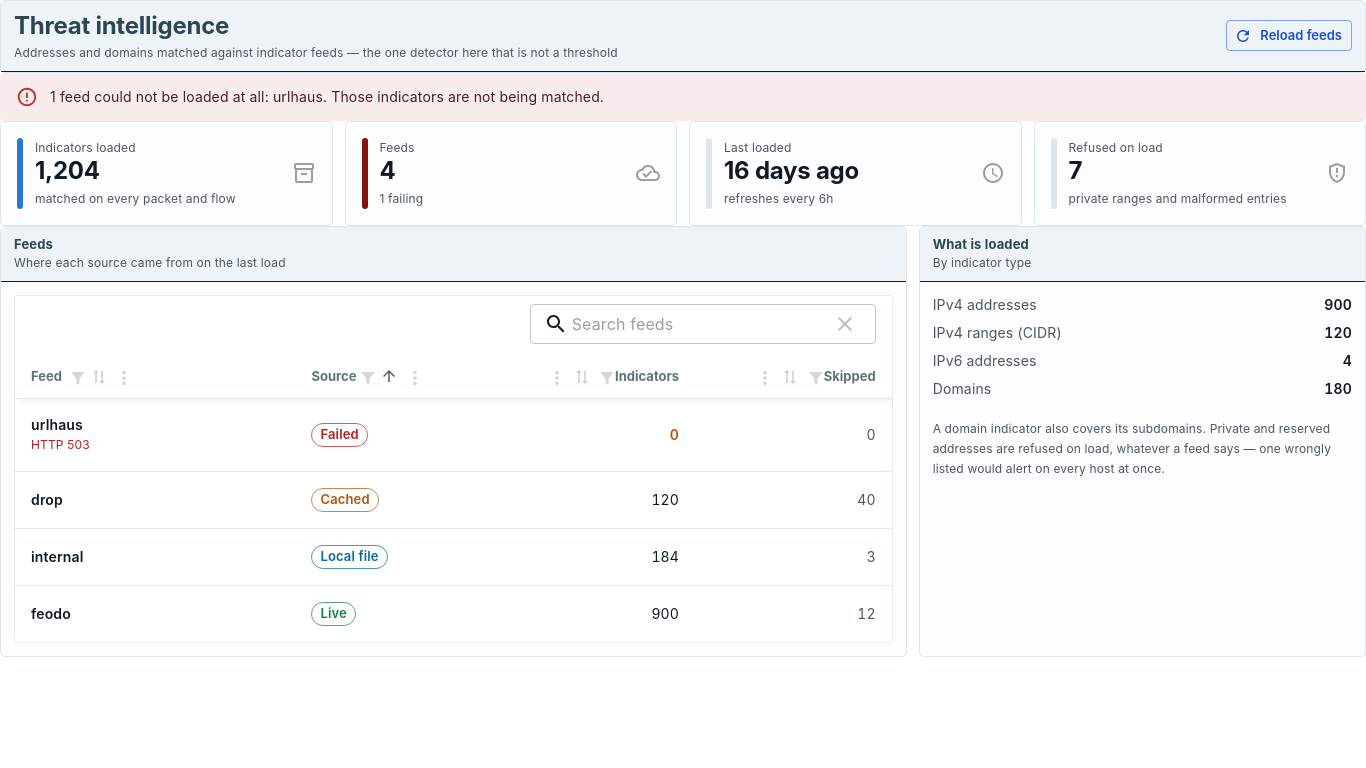
Test: ThreatIntelPage › surfaces a refused reload rather than looking like it worked
This screenshot has width=1366, height=768.
Click the button "Reload feeds" at (1289, 36), box [1226, 20, 1352, 51]
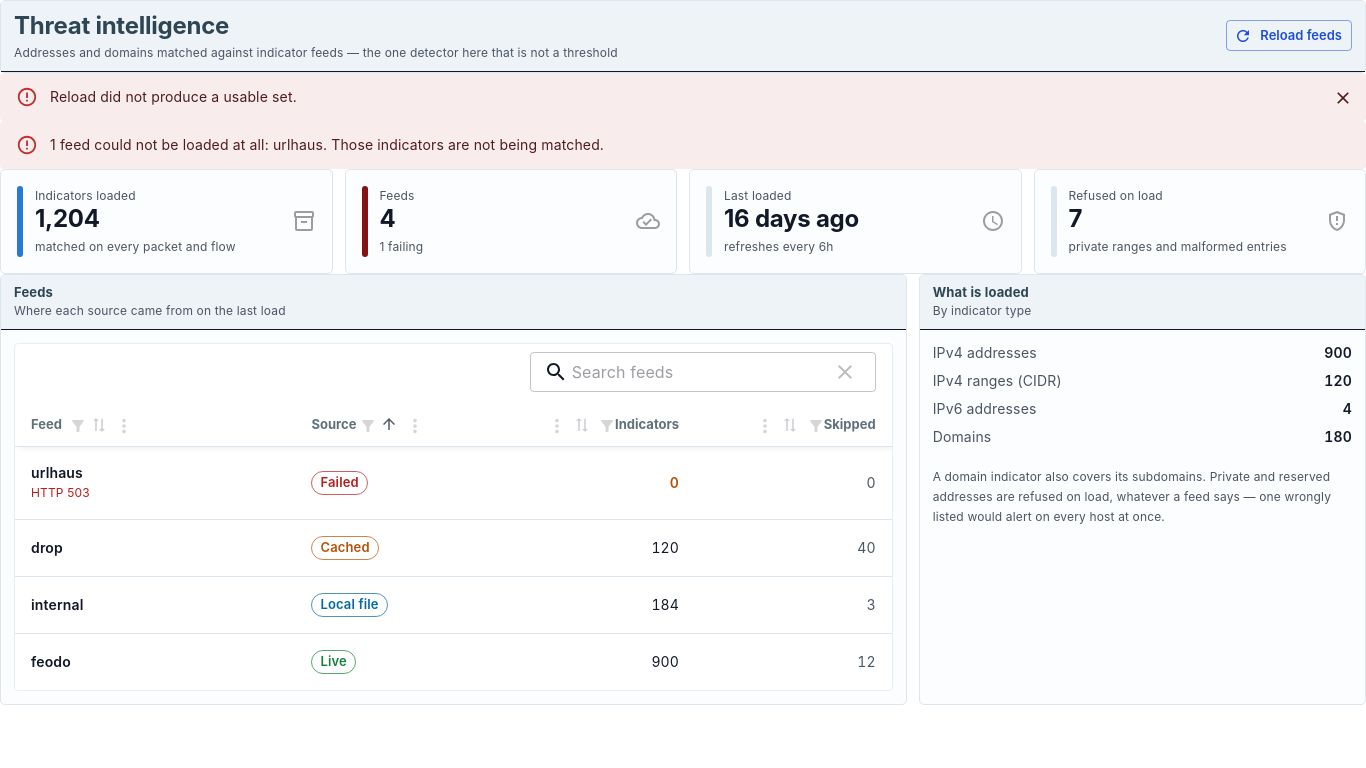
Result: the text "Reload did not produce a usable set." is shown at [50, 88, 297, 104]
